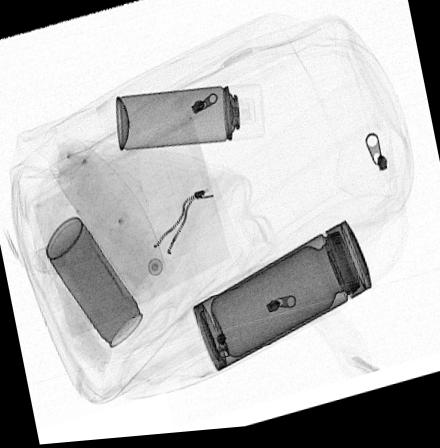Sprayer: (115, 86, 266, 153)
